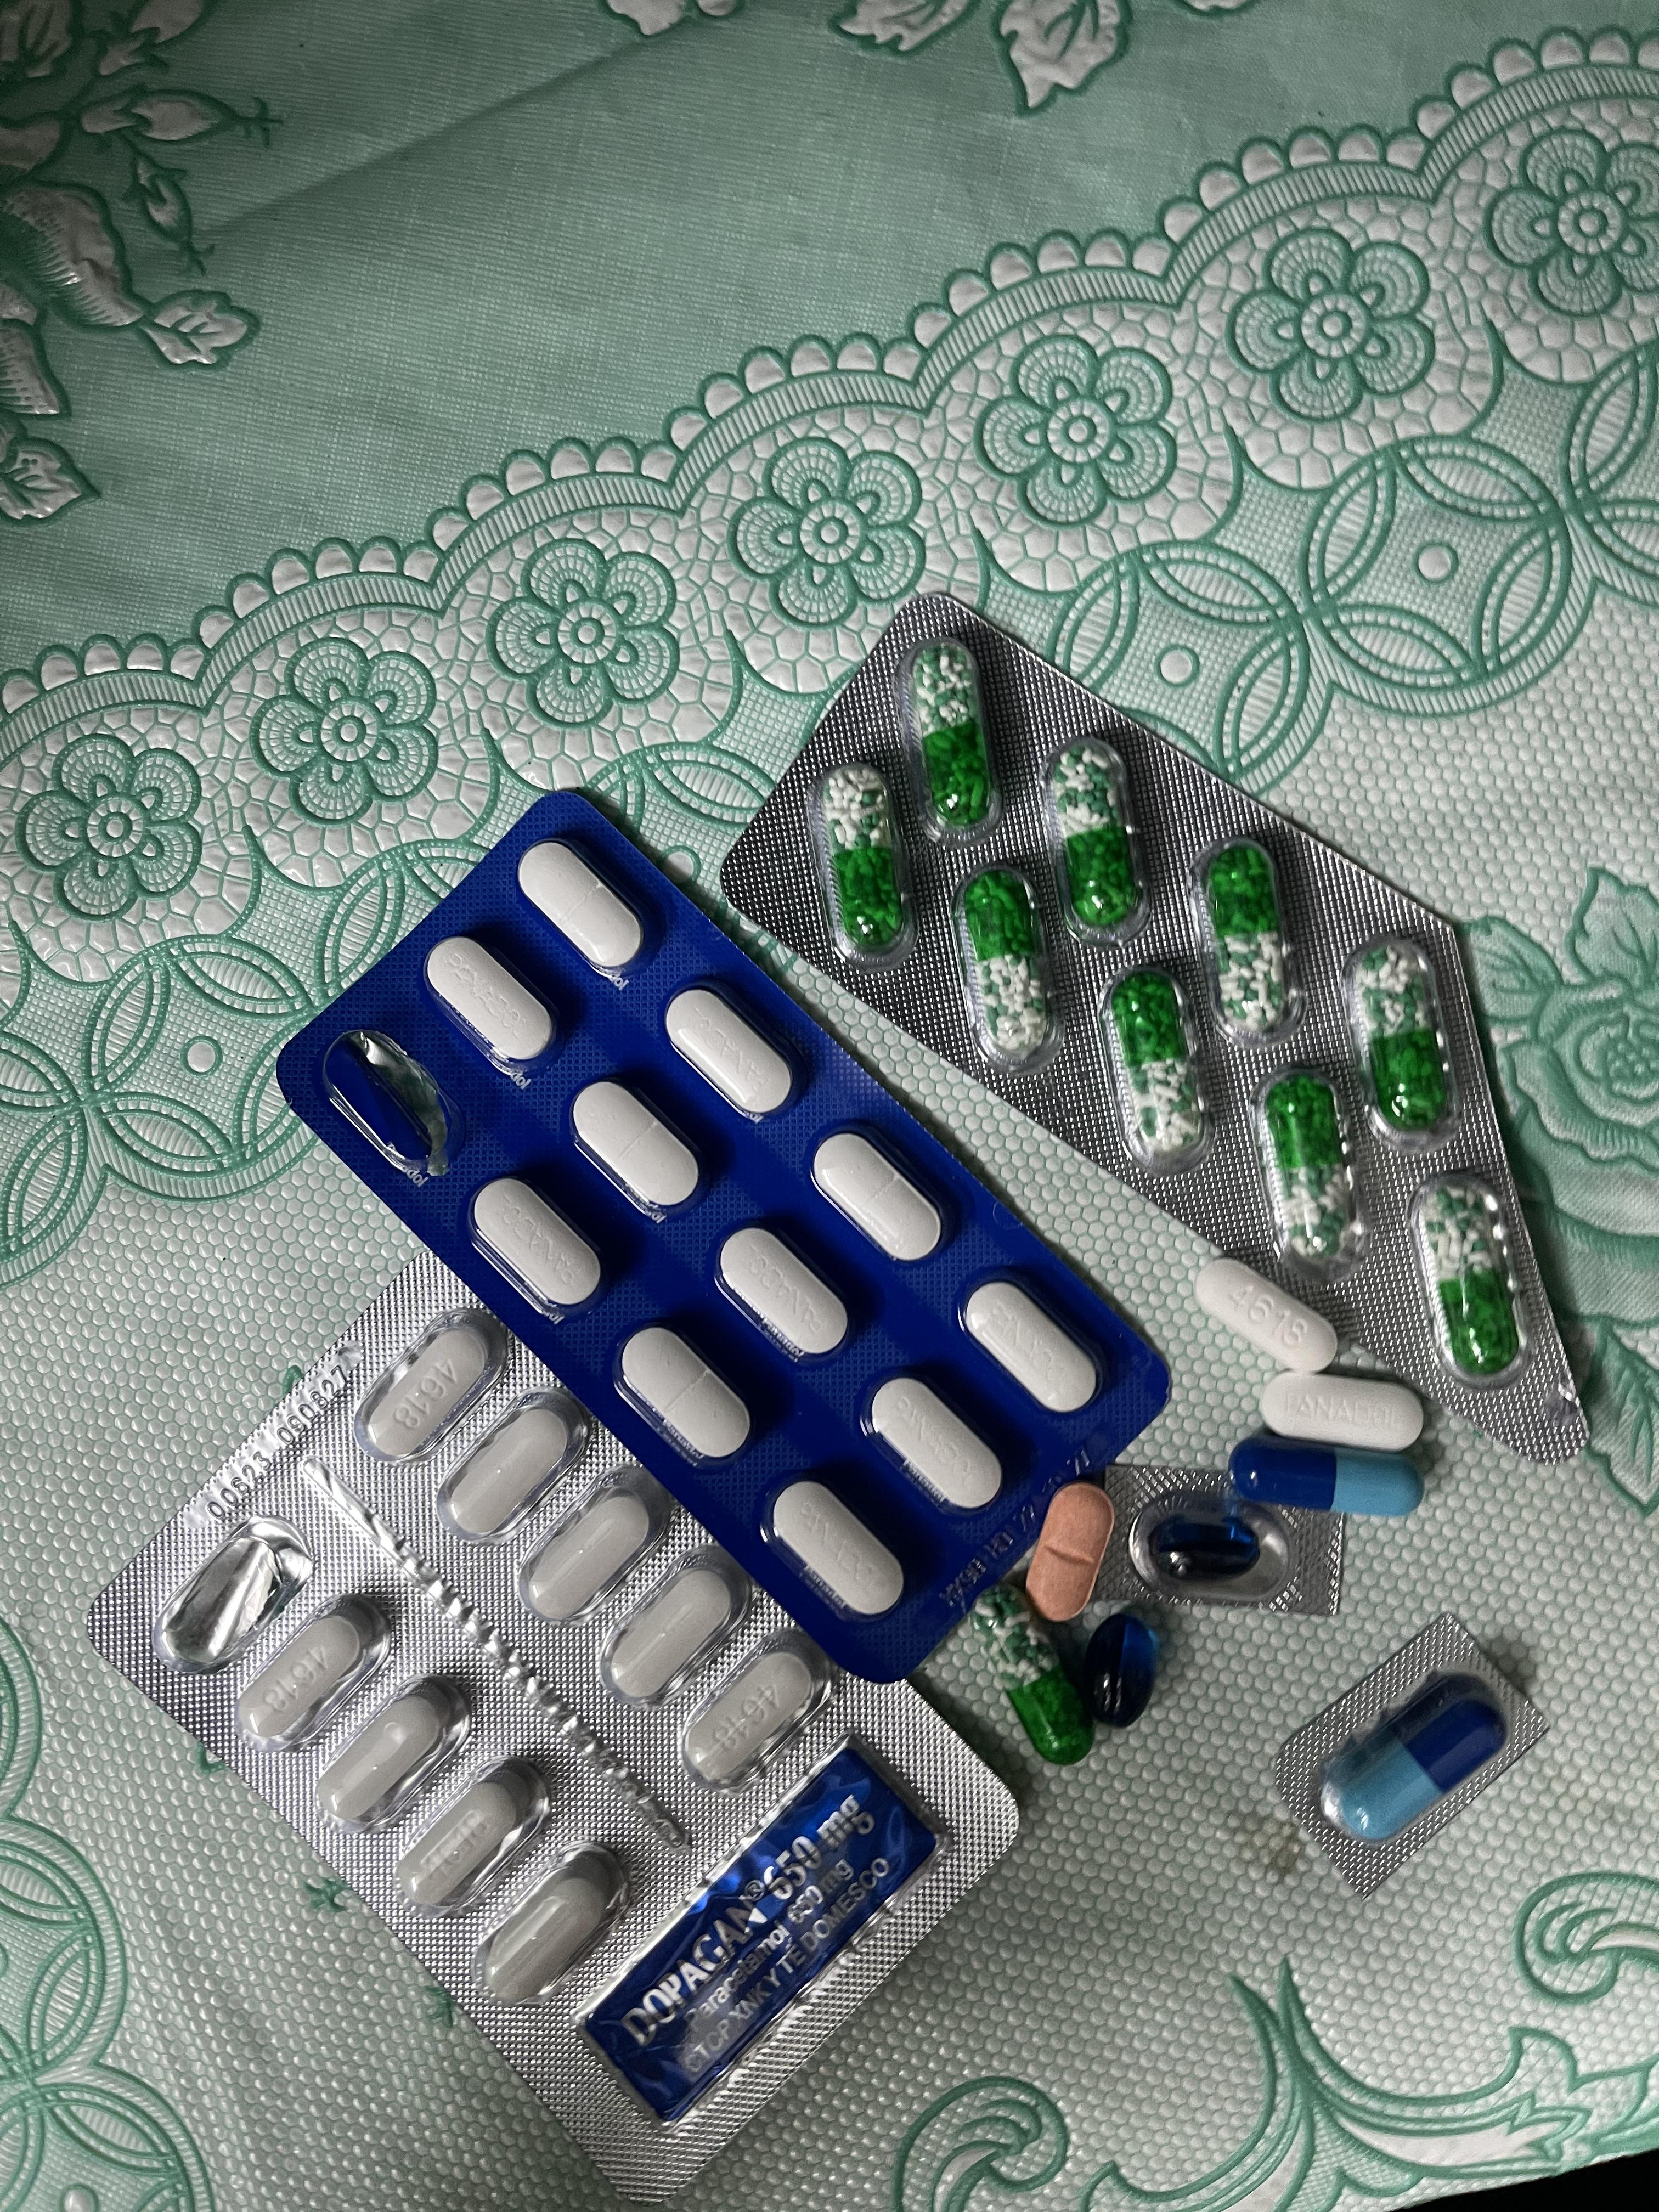Lincomyxin_500mg: (1084, 1611, 1159, 1728), (1150, 1514, 1260, 1580)
Loratadine_10mg: (1028, 1484, 1114, 1618)
Paracetamol_350mg: (962, 1275, 1105, 1413), (619, 1324, 756, 1465), (472, 1181, 606, 1325), (425, 935, 561, 1076), (864, 1376, 1002, 1512), (767, 1479, 901, 1618), (568, 1080, 702, 1219), (716, 1224, 852, 1360), (810, 1127, 948, 1261), (518, 840, 652, 974), (667, 986, 795, 1116), (1258, 1369, 1427, 1449)
Paracetamol_500mg: (387, 1745, 556, 1916), (464, 1839, 634, 2008), (235, 1590, 394, 1756), (314, 1669, 472, 1832), (514, 1456, 671, 1618), (676, 1627, 826, 1794), (429, 1381, 586, 1540), (352, 1303, 507, 1463), (598, 1543, 749, 1705), (1192, 1258, 1335, 1378)
Paracetamol_650mg: (971, 1585, 1093, 1766), (1103, 972, 1206, 1170), (1356, 948, 1452, 1137), (1425, 1186, 1520, 1372), (964, 871, 1051, 1057), (1263, 1073, 1349, 1256), (911, 651, 993, 836), (824, 772, 904, 951), (1056, 749, 1134, 927), (1208, 850, 1284, 1022)
pill: (1317, 1674, 1506, 1843), (1234, 1439, 1419, 1519)
